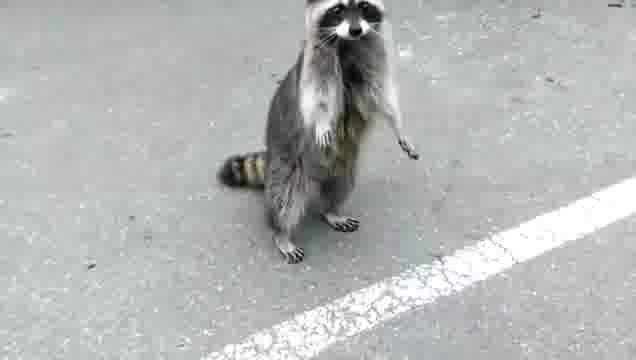raccoon: (219, 0, 421, 264)
